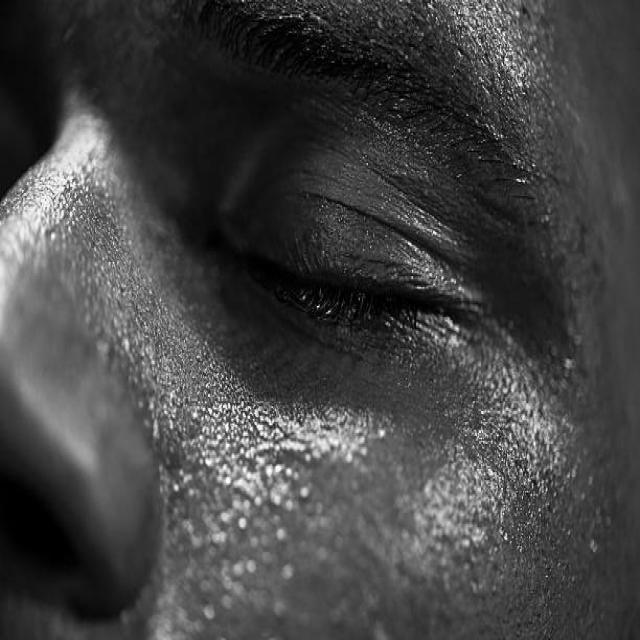real: (144, 0, 589, 416)
